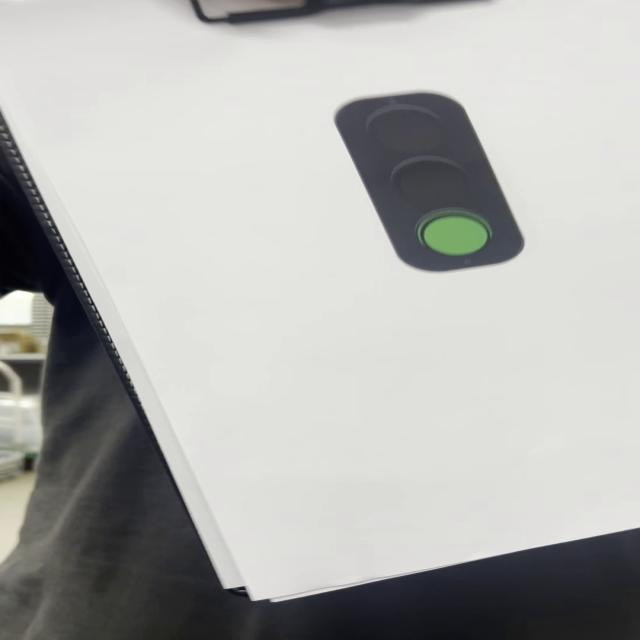green: (335, 91, 529, 274)
